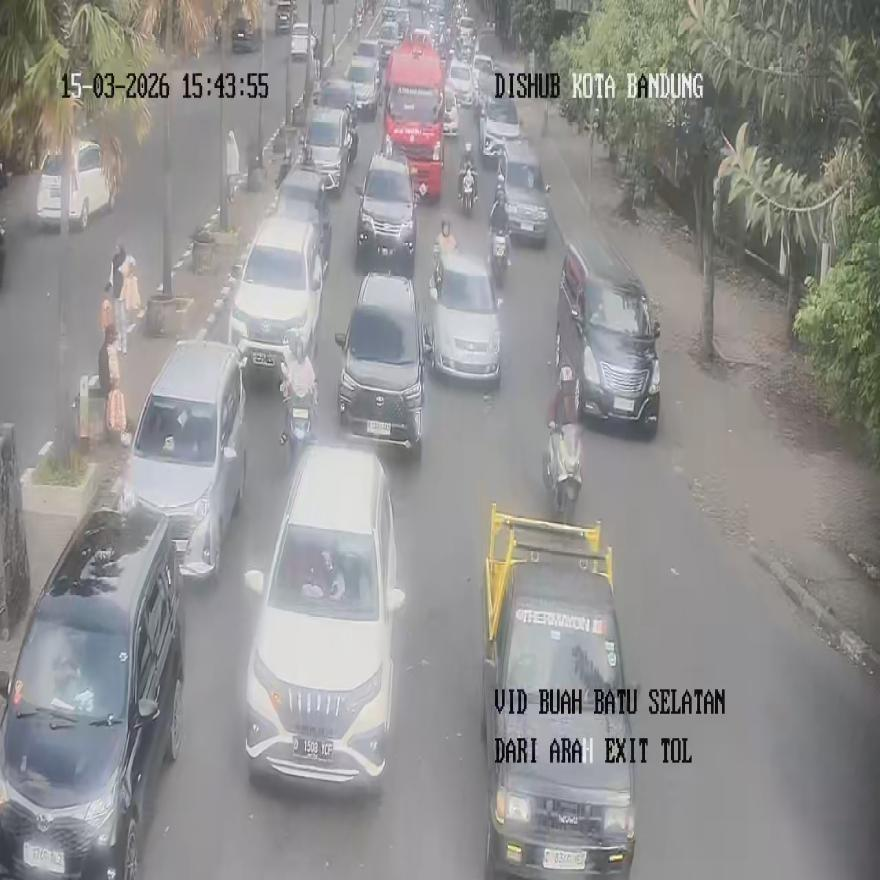Motor: (0, 504, 185, 878), (481, 505, 636, 878), (243, 441, 404, 793), (125, 339, 246, 578), (555, 232, 661, 433), (335, 271, 425, 451), (228, 215, 323, 383), (424, 246, 502, 386), (354, 149, 416, 273), (37, 140, 114, 230), (275, 165, 330, 275), (497, 138, 550, 243), (302, 103, 357, 193)
Truk: (543, 364, 582, 526), (490, 229, 509, 287), (460, 165, 476, 214)
